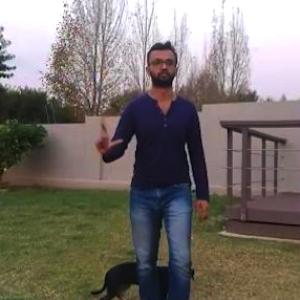land_hand: (92, 118, 124, 156)
